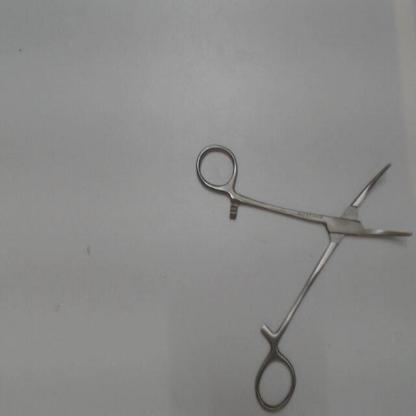Crile Artery Forceps: (192, 137, 415, 414)
